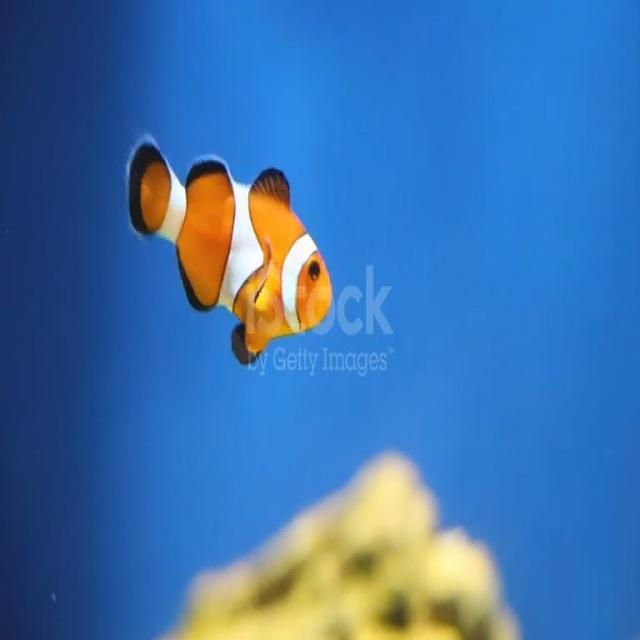fish: (123, 124, 334, 368)
